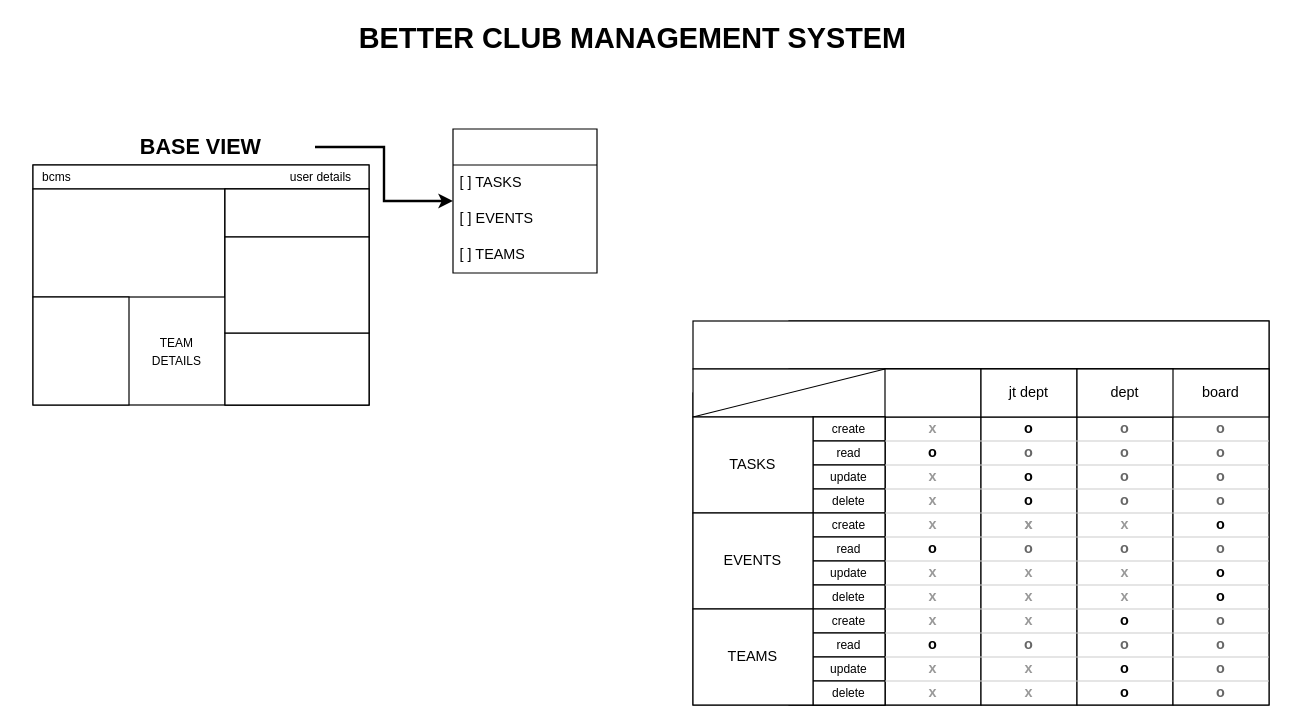
This 1290x726 diagram has some shape labels left out. Here are the shapes that lost their labels. From the top down, the box of each, then its label:
(224, 188, 369, 237): TASK METRICS
(452, 128, 597, 273): FEATURES
(32, 188, 225, 297): EVENT/OVERALL CALENDAR
(224, 236, 369, 333): ASSIGNED TASKS/TASKS UP FOR GRABS
(32, 296, 129, 405): UPCOMING /PLANNED EVENTS
(692, 320, 1269, 369): PERMISSION MANAGER
(224, 332, 369, 405): ON GOING TASKS
(884, 368, 981, 417): member
